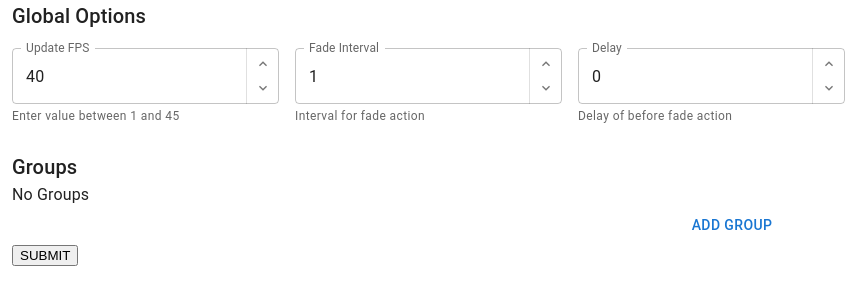
Test case: Devices › Components › Fade Interval › Can change value
Click the field labelled "Fade Interval": click(412, 76) [295, 48, 529, 104]
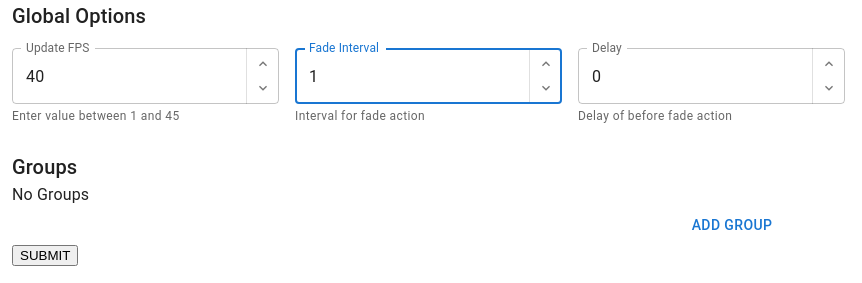
Press Arrowup
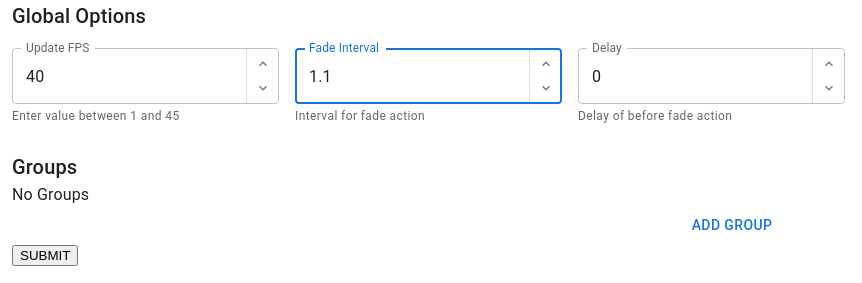
Now the field labelled "Fade Interval" holds "1.1", box [295, 48, 529, 104]
